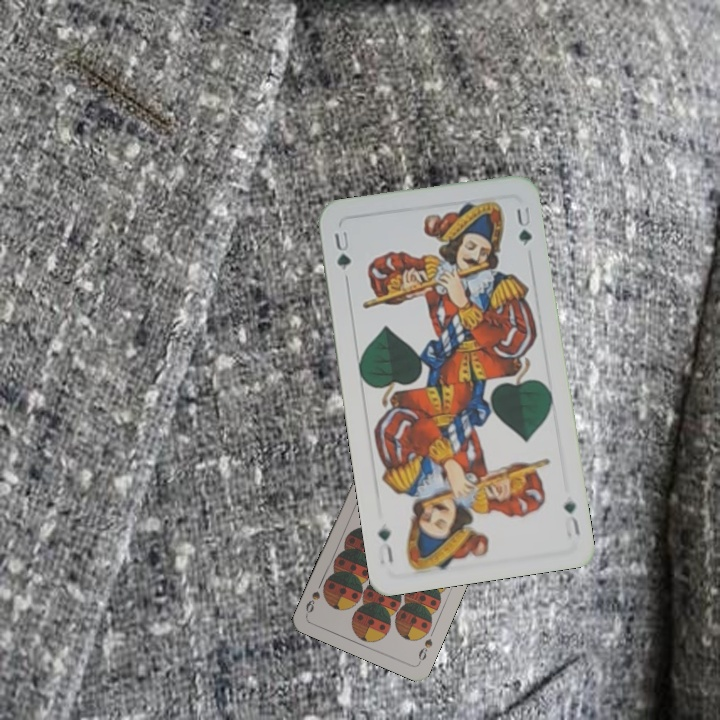GU: (330, 227, 354, 273), (559, 496, 582, 540)
S9: (414, 634, 435, 666)
